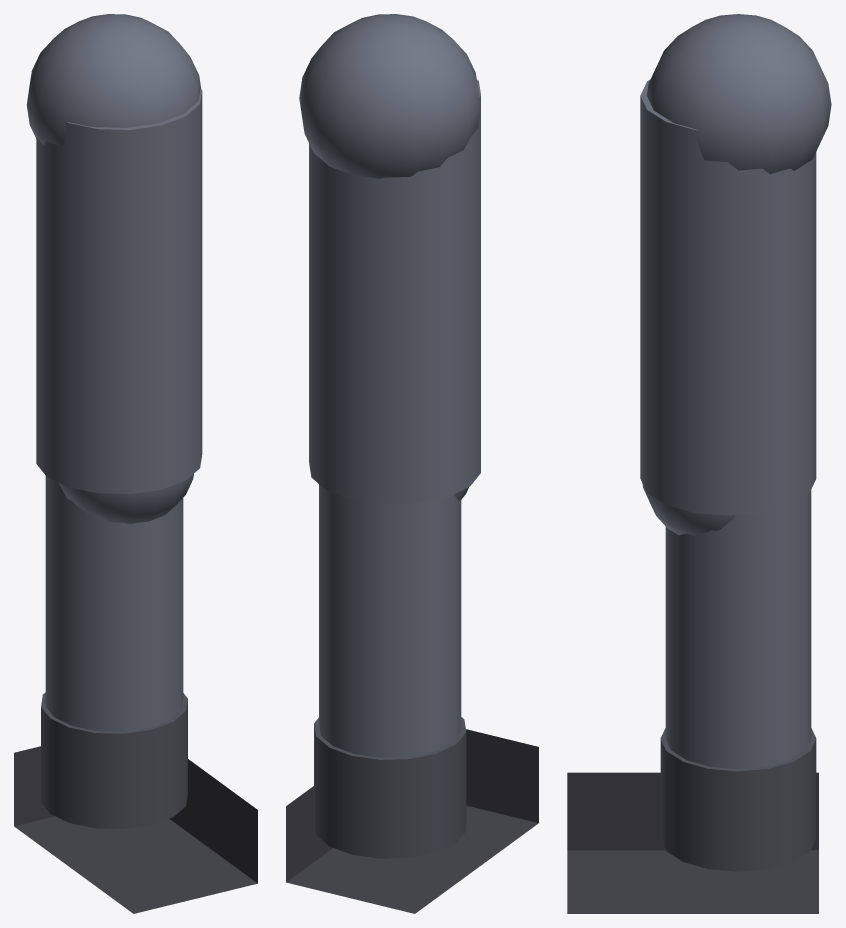
The model's file is human_leg_m2.glb.
The picture shows the model from 3 angles, left to right: view 1: azimuth 30°, elevation 25°; view 2: azimuth 150°, elevation 25°; view 3: azimuth 270°, elevation 25°; orthographic projection. The views are drawn at different scales.
Parts seen in each view (by area): view 1: human_leg; view 2: human_leg; view 3: human_leg.
Part boxes in pixels (x1,y1,x2,y2): human_leg: (14, 14, 257, 913); human_leg: (286, 14, 538, 913); human_leg: (567, 14, 831, 913).
Bounding box in the file's own units: 0.185 × 0.9425 × 0.2625.
